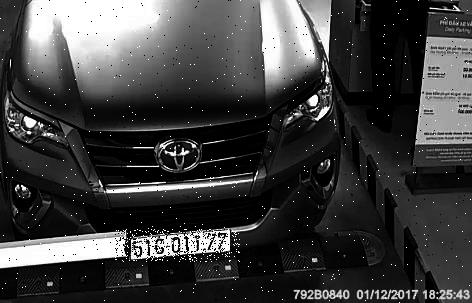License-plate: (116, 230, 241, 263)
